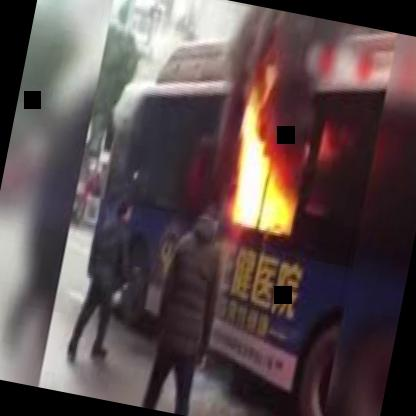fire: (188, 15, 348, 246)
